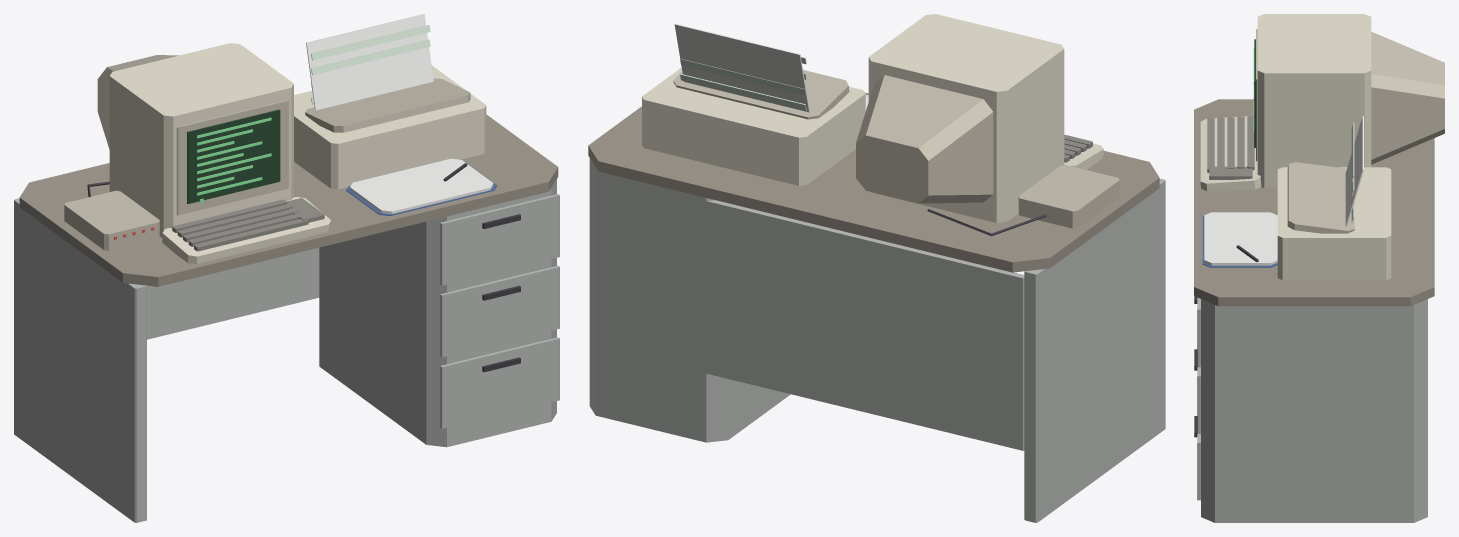
Rendered from posto-om.fbx.
3 views of the same model, side by side, from view 1: azimuth 30°, elevation 25°; view 2: azimuth 150°, elevation 25°; view 3: azimuth 270°, elevation 25° (orthographic). The views are drawn at different scales.
Visible parts, largest first — view 1: Posto de O&M; view 2: Posto de O&M; view 3: Posto de O&M.
Boxes of the visible parts, <box> form: Posto de O&M: <box>14,14,559,522</box>; Posto de O&M: <box>588,14,1165,522</box>; Posto de O&M: <box>1194,14,1444,522</box>.
Size of the model in its own units: 1.4 by 1.13 by 0.75.
1 material, 1 textured.
